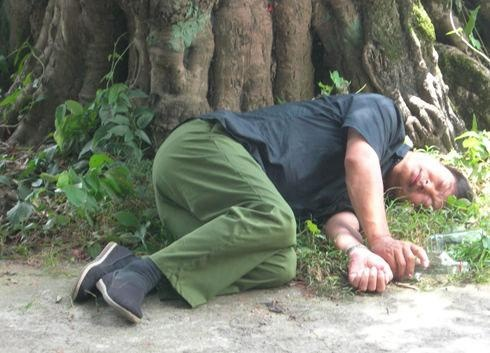falling: (64, 71, 474, 324)
